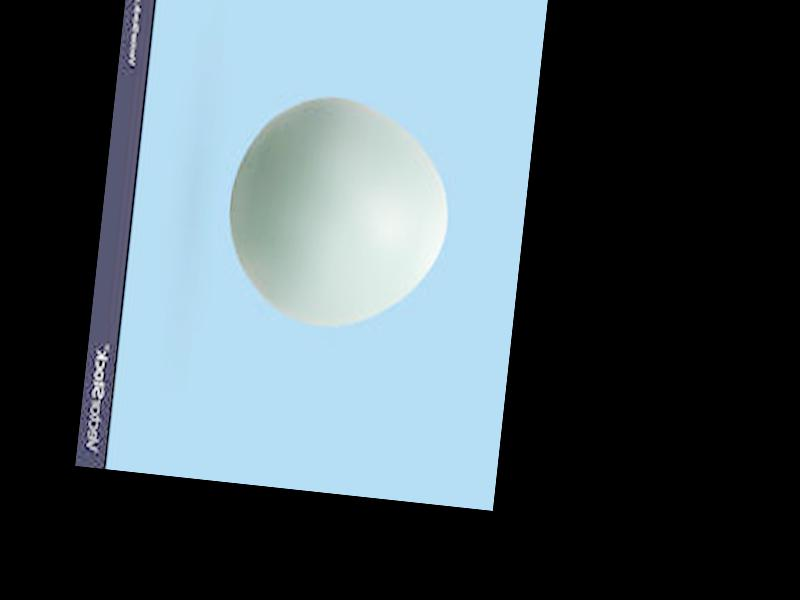Eggs: (219, 84, 459, 337)
